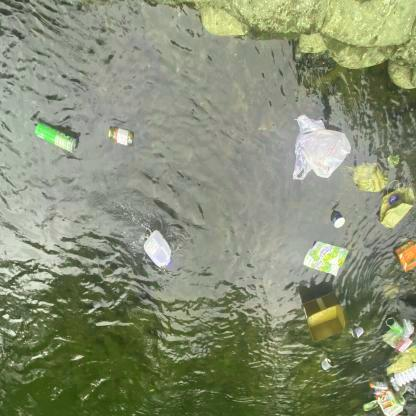Glass: (107, 125, 136, 150)
Metal: (30, 117, 81, 159), (352, 324, 366, 340)
Plastic: (289, 112, 353, 186), (141, 225, 174, 273), (319, 357, 334, 373)
Trash: (376, 176, 416, 232), (343, 157, 391, 195), (382, 343, 416, 388), (328, 208, 347, 231)
